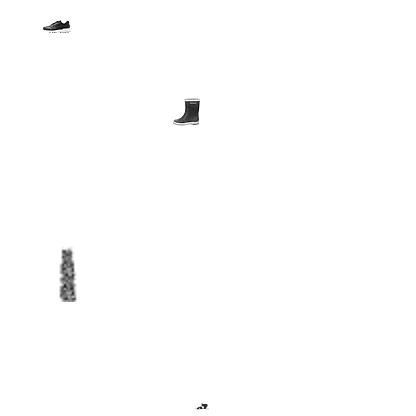Ankle_boot: (172, 98, 200, 126)
Dress: (40, 246, 96, 302)
Sandal: (195, 399, 209, 413)
Sneaker: (43, 12, 71, 40)
